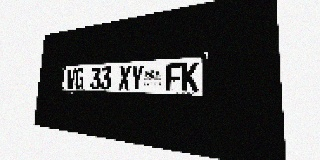3: (100, 66, 112, 90), (90, 67, 101, 89)
F: (166, 63, 181, 91)
G: (74, 68, 85, 89)
K: (182, 62, 199, 92)
V: (66, 68, 76, 89)
X: (118, 65, 131, 90)
Y: (130, 65, 144, 90)
